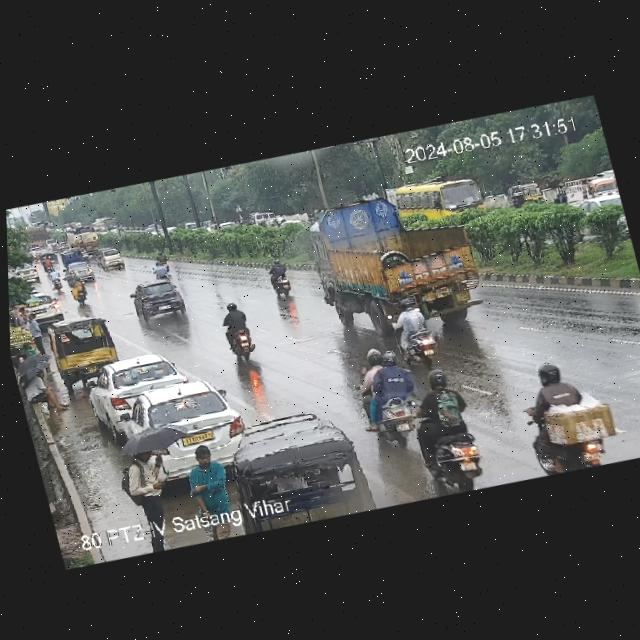bus: (384, 166, 488, 233)
car: (105, 372, 249, 477), (227, 412, 358, 504), (86, 343, 195, 429), (46, 310, 125, 381), (11, 289, 65, 328), (505, 179, 547, 208), (94, 245, 127, 273), (63, 257, 96, 282), (59, 246, 89, 268)
motorcycle: (400, 360, 488, 495), (508, 347, 617, 435), (348, 346, 429, 443), (382, 288, 445, 370), (125, 274, 190, 327), (212, 296, 261, 363), (22, 220, 63, 263), (264, 256, 300, 300), (145, 257, 174, 284)
person: (180, 444, 242, 531), (118, 442, 183, 523), (20, 364, 77, 426), (25, 309, 48, 351)
truck: (304, 182, 497, 348), (559, 170, 620, 209)
